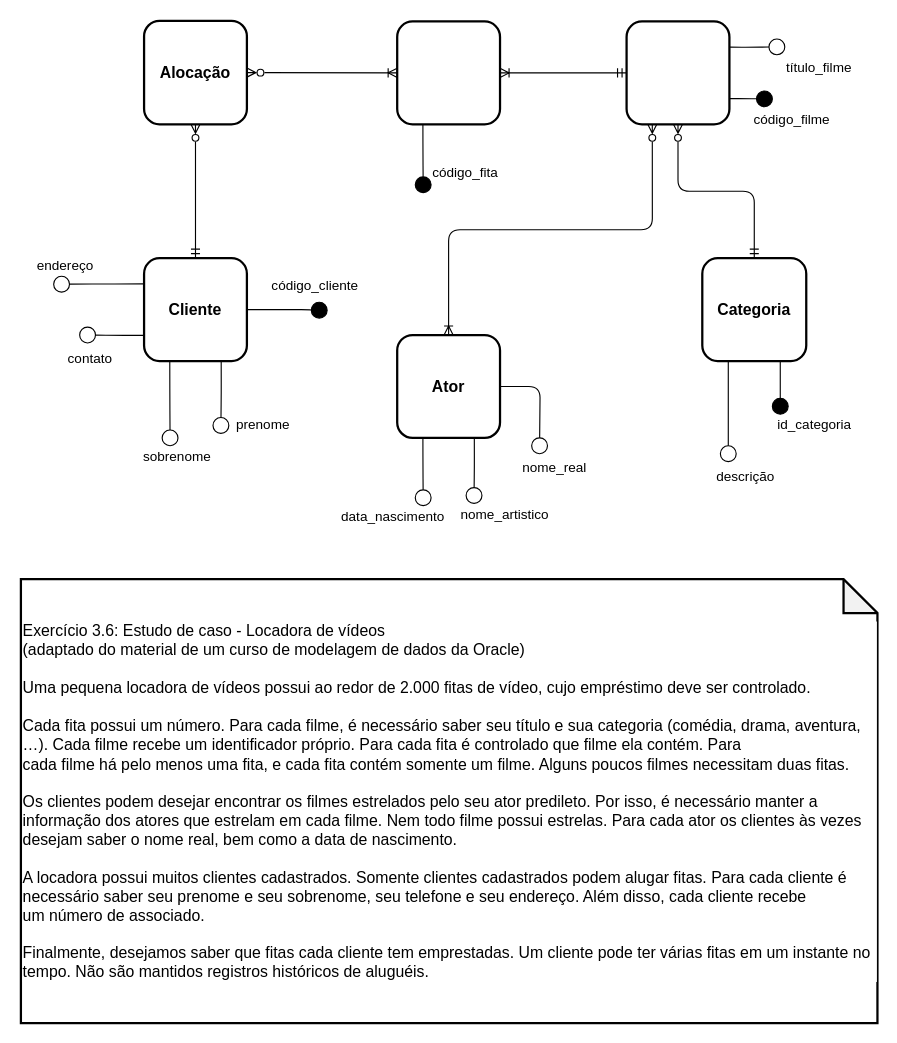
Image size: 897x1043. Some labels were removed from this diagram. Here are the shapes that lost their labels. From the top down, the centre of each, then its label:
At point (448, 72): "Fita".
At point (677, 72): "Filme".
